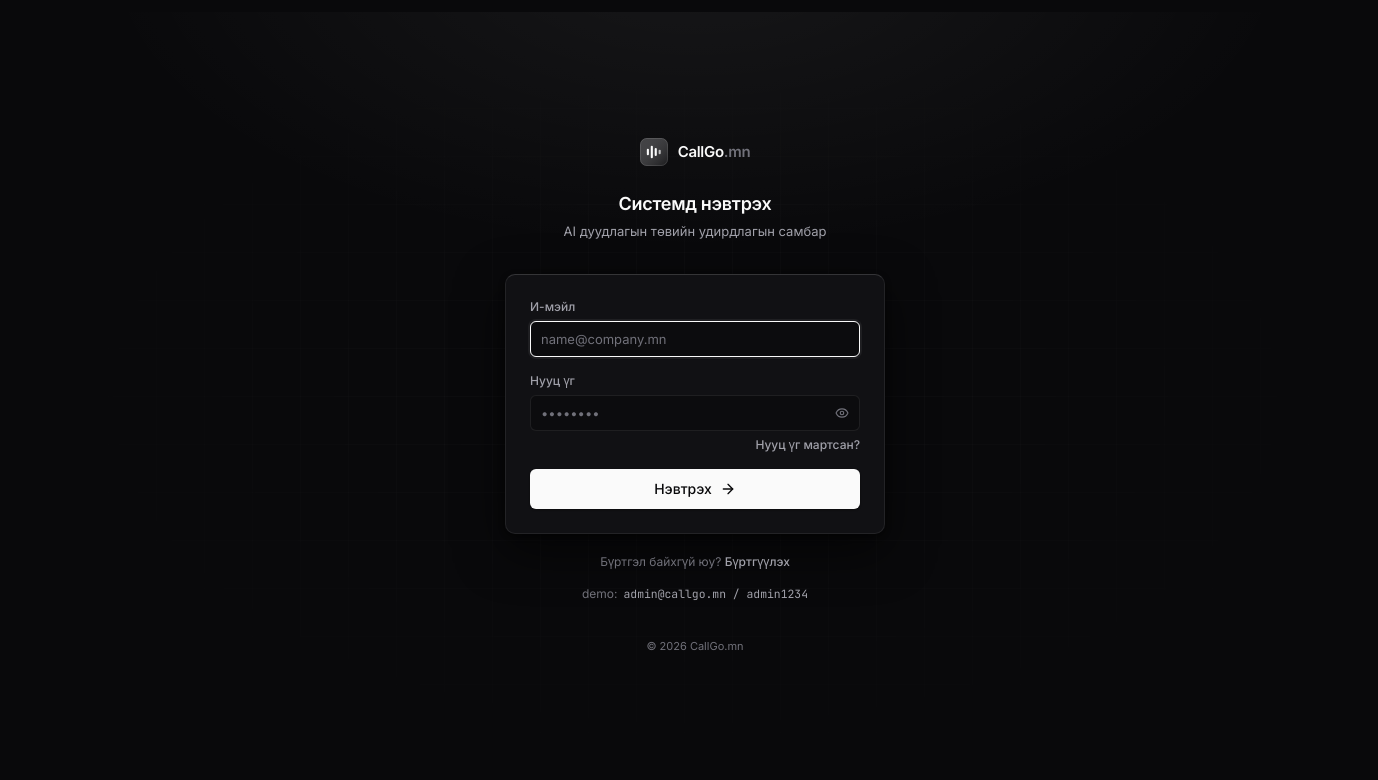
Test case: LoginPage links › stores the refresh token on login
The width and height of the screenshot is (1378, 780).
Type "a@b.mn" into the field labelled "И-мэйл". click: (695, 338)
box: [530,320,860,356]
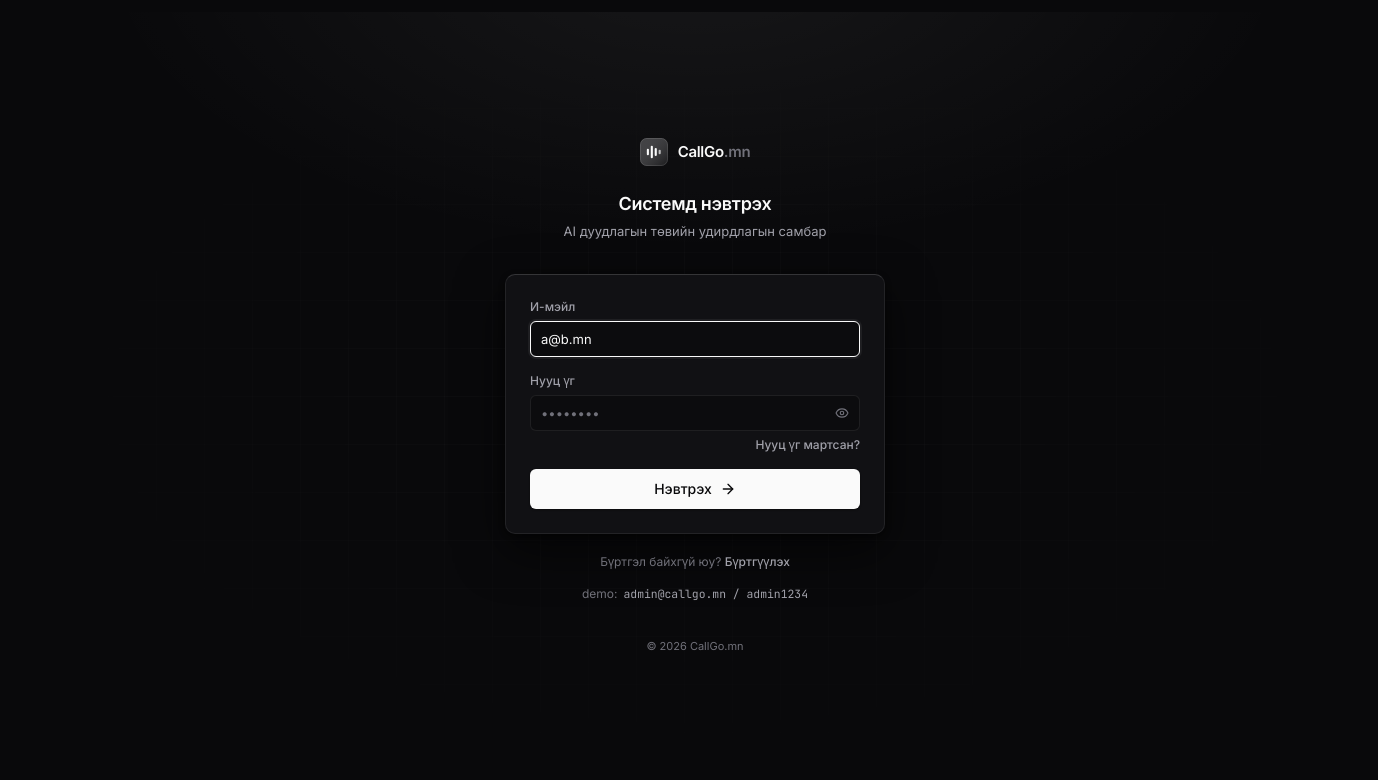
Type "secret123" into the password field labelled "Нууц үг". click: (695, 412)
box: [530,394,860,430]
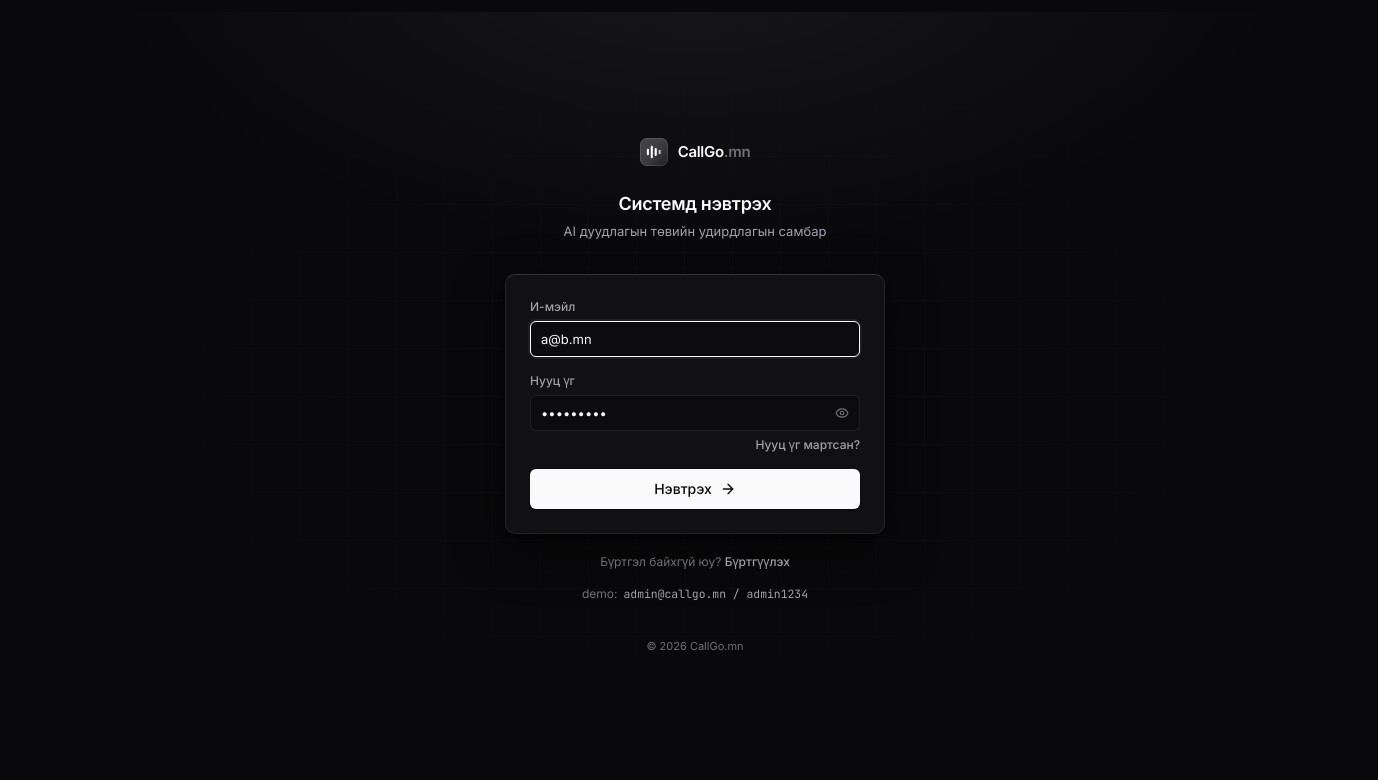
Click the button "Нэвтрэх". click: click(695, 488)
box: [530,468,860,508]
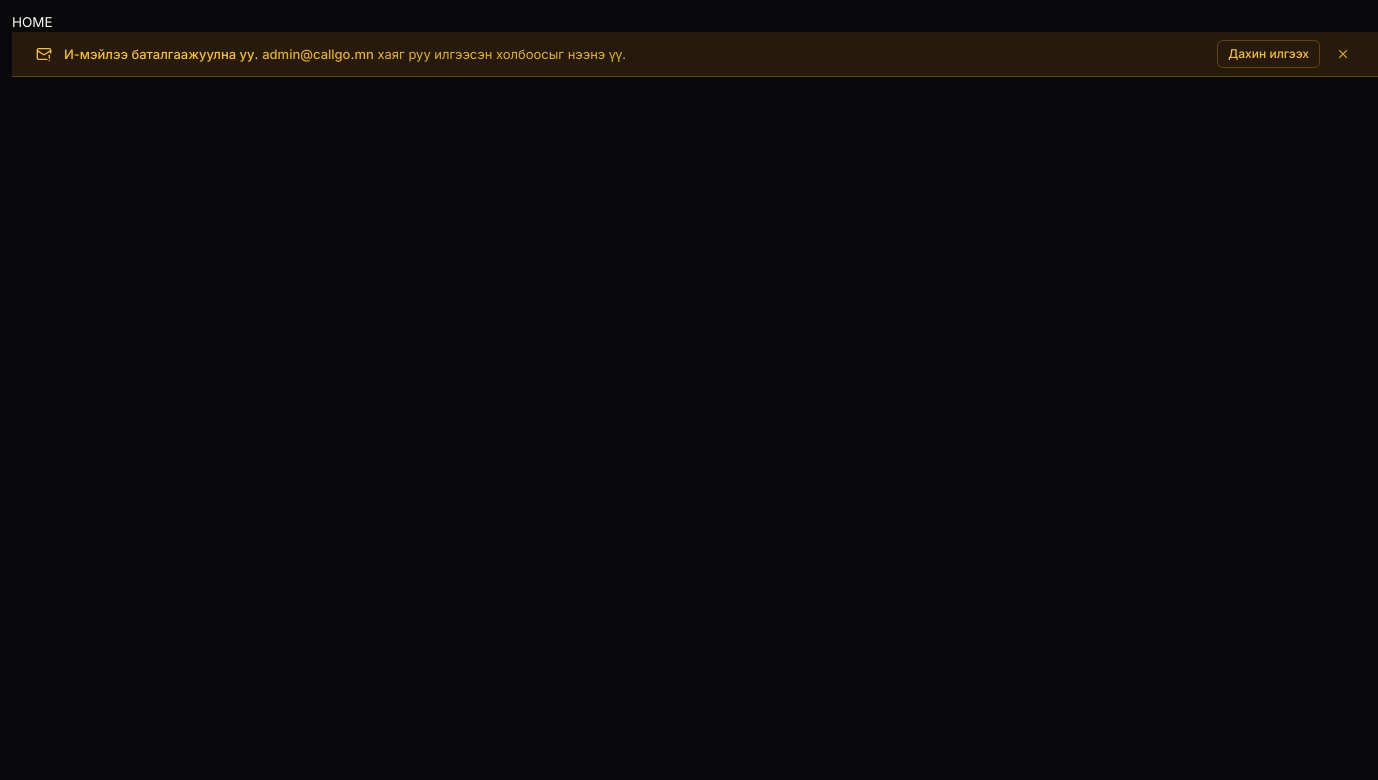
Now the text "HOME" is shown, box [12,14,53,30]
